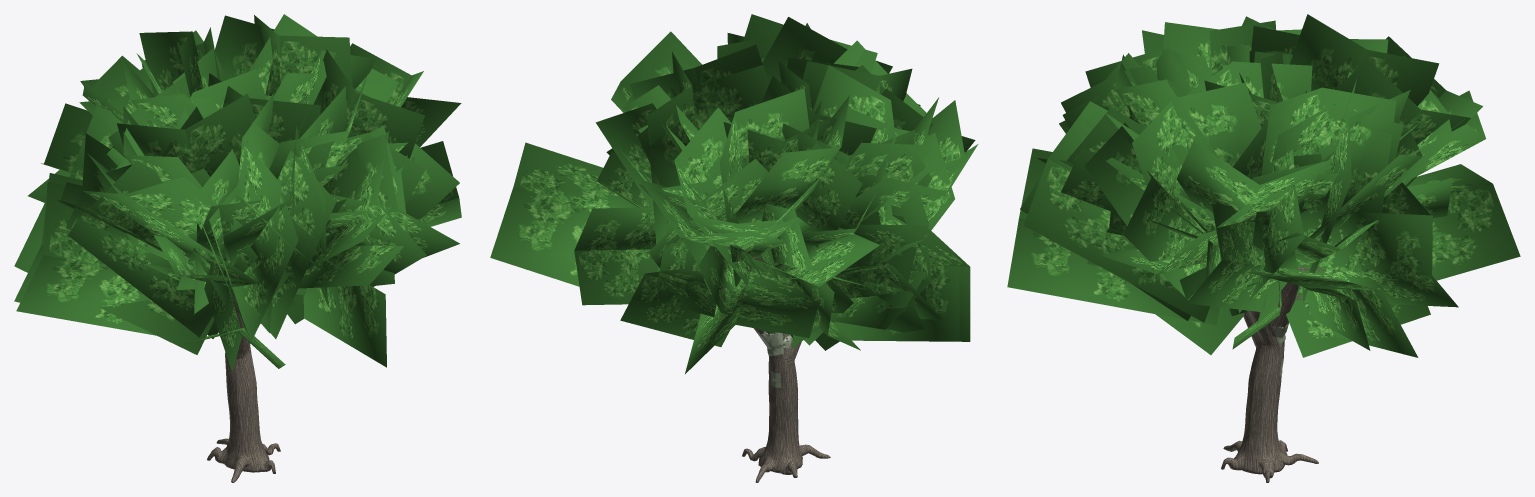
The model's file is environment_elm2_v59.fbx.
The picture shows the model from 3 angles, left to right: view 1: azimuth 30°, elevation 25°; view 2: azimuth 150°, elevation 25°; view 3: azimuth 270°, elevation 25°; orthographic projection. The views are drawn at different scales.
Visible parts, largest first — view 1: environment_elm2_v59_lod0; view 2: environment_elm2_v59_lod0; view 3: environment_elm2_v59_lod0.
Part boxes in pixels (x1,y1,x2,y2): environment_elm2_v59_lod0: (14,14,461,482); environment_elm2_v59_lod0: (490,14,978,482); environment_elm2_v59_lod0: (1007,14,1520,482).
Size of what is drawn, in the model's own units: 2800 by 2432 by 2650.
Materials: 3 (3 with a texture image).
